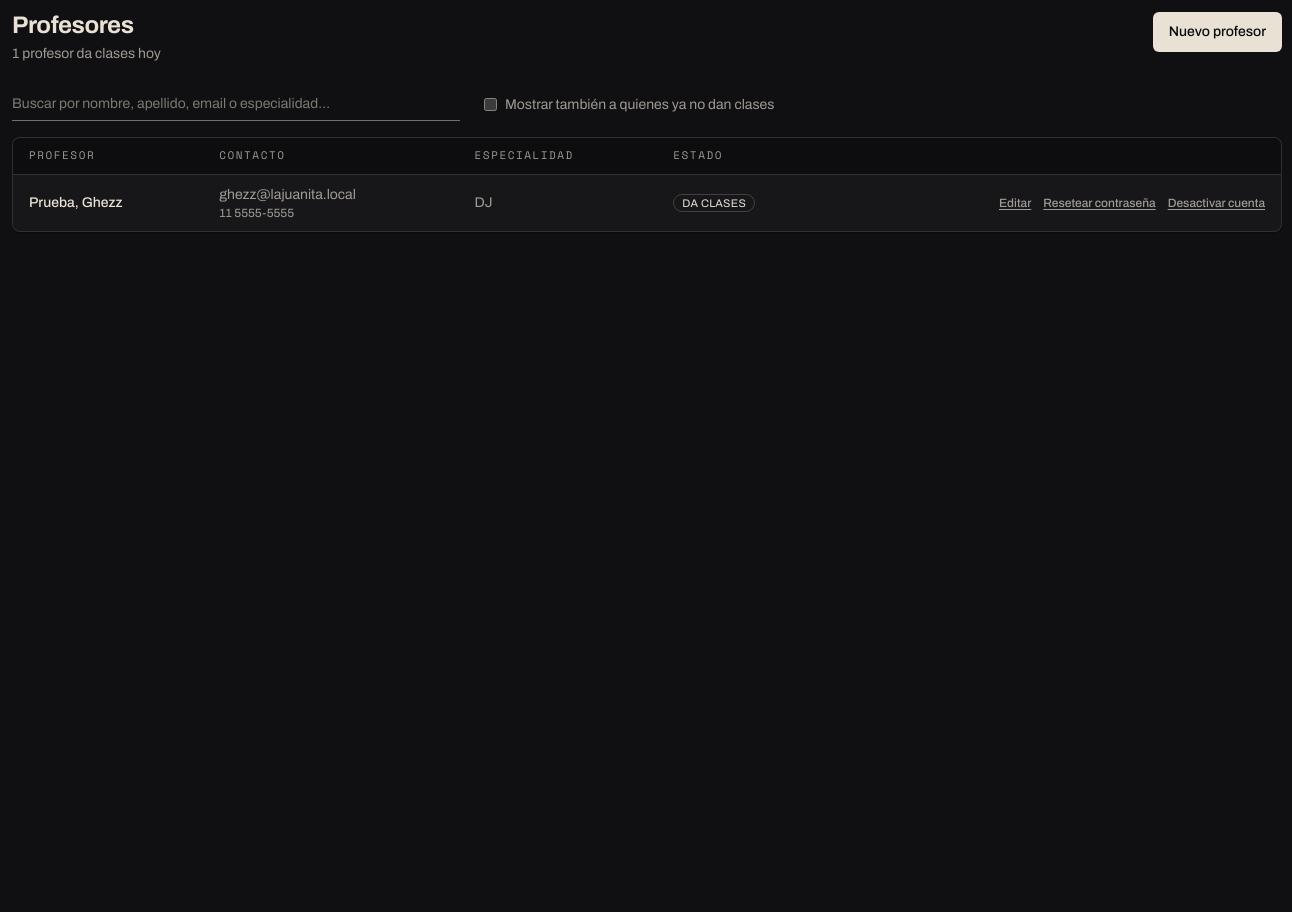
Test: el alta, con los dos caminos › con cuenta nueva manda usuarioNuevo y muestra la contraseña una vez
Check: the text "Prueba, Ghezz" is shown, box [29, 195, 123, 210]
Click the button "Nuevo profesor".
click(1217, 32)  # box [1153, 12, 1282, 52]
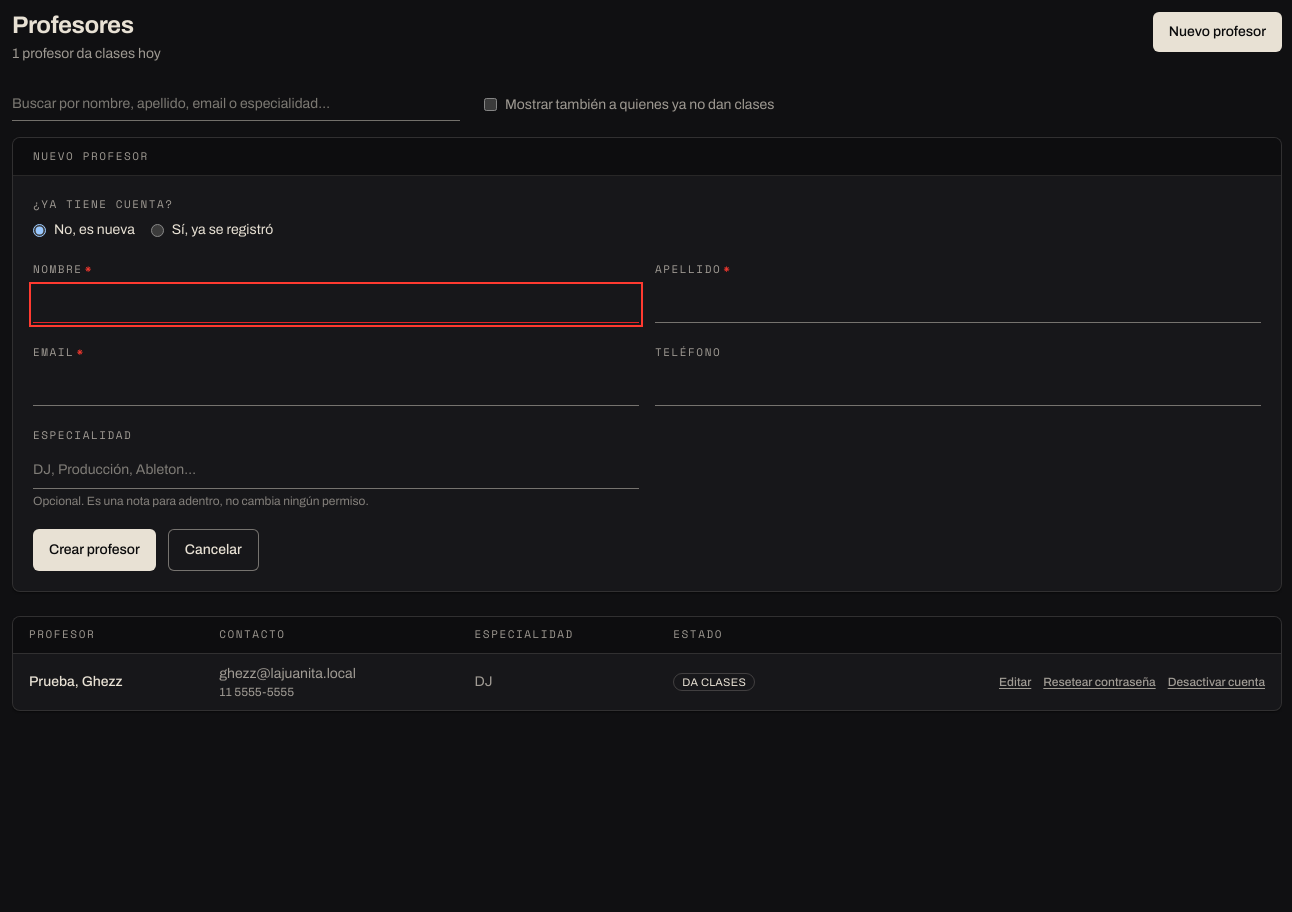
Type "Lucas" into the field labelled "Nombre*".
click(336, 305); type("Lucas")  # box [33, 286, 639, 323]
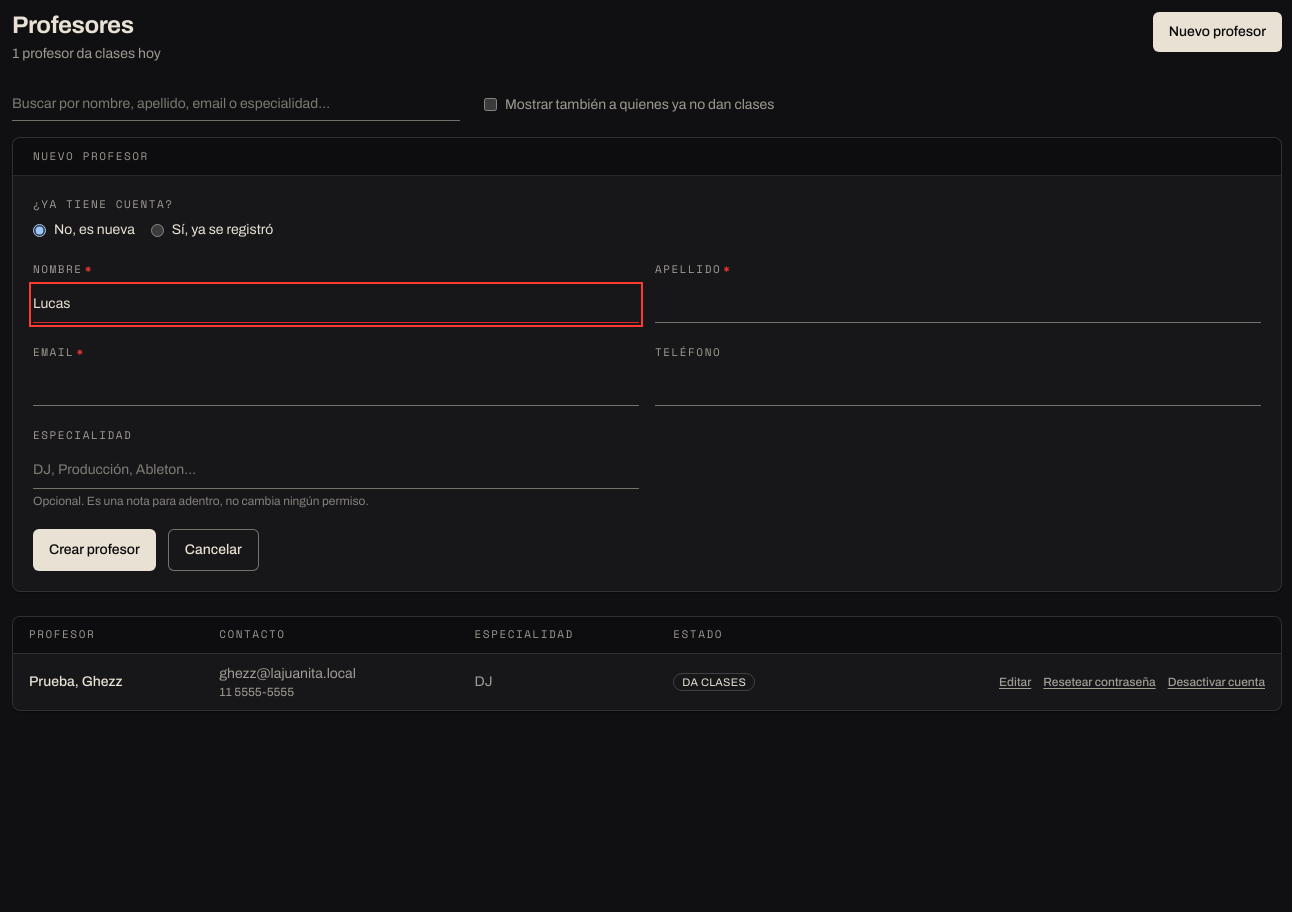
Type "Ferreyra" into the field labelled "Apellido*".
click(958, 305); type("Ferreyra")  # box [655, 286, 1261, 323]
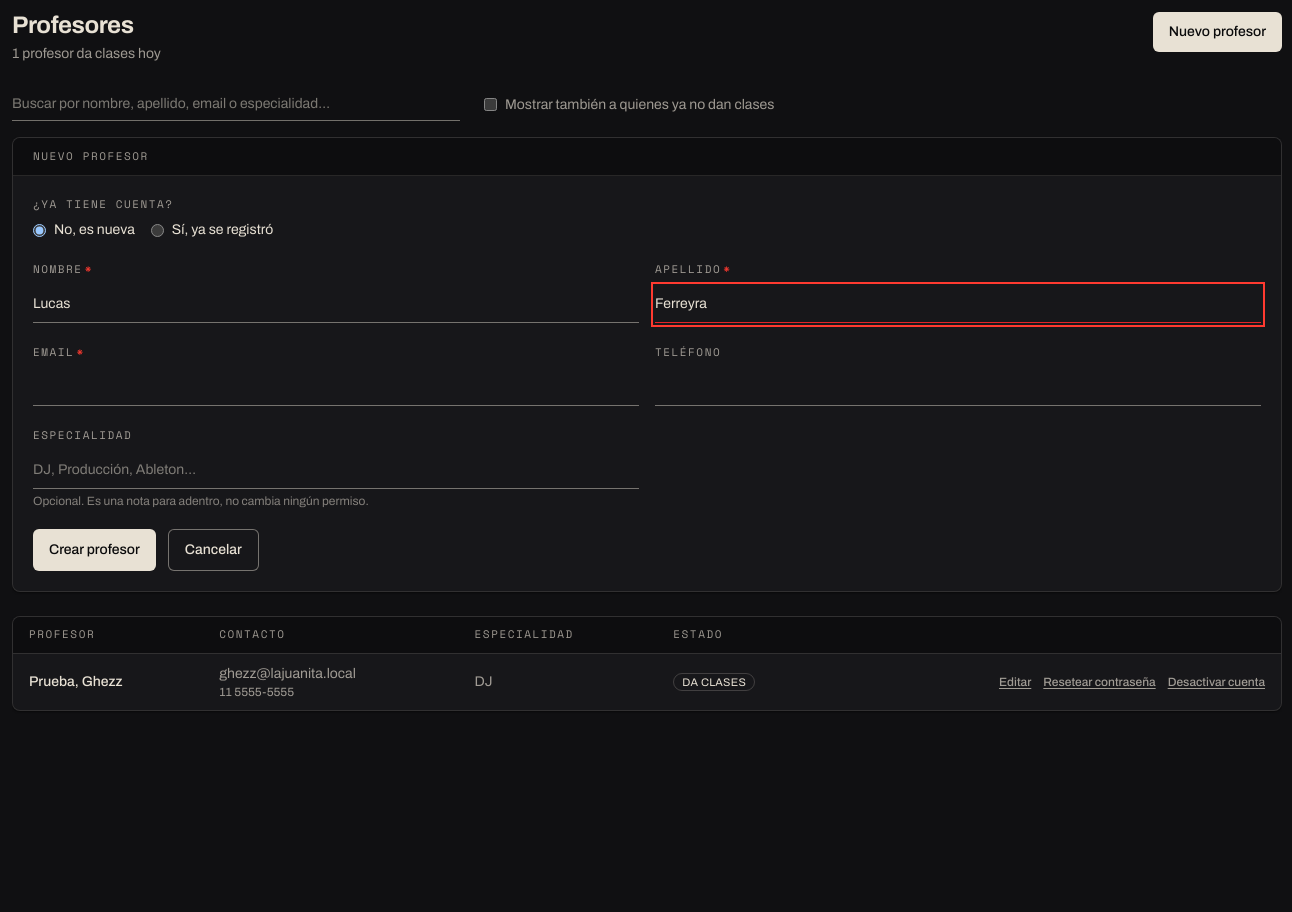
Type "lucas@ejemplo.com" into the field labelled "Email*".
click(336, 388); type("lucas@ejemplo.com")  # box [33, 369, 639, 406]
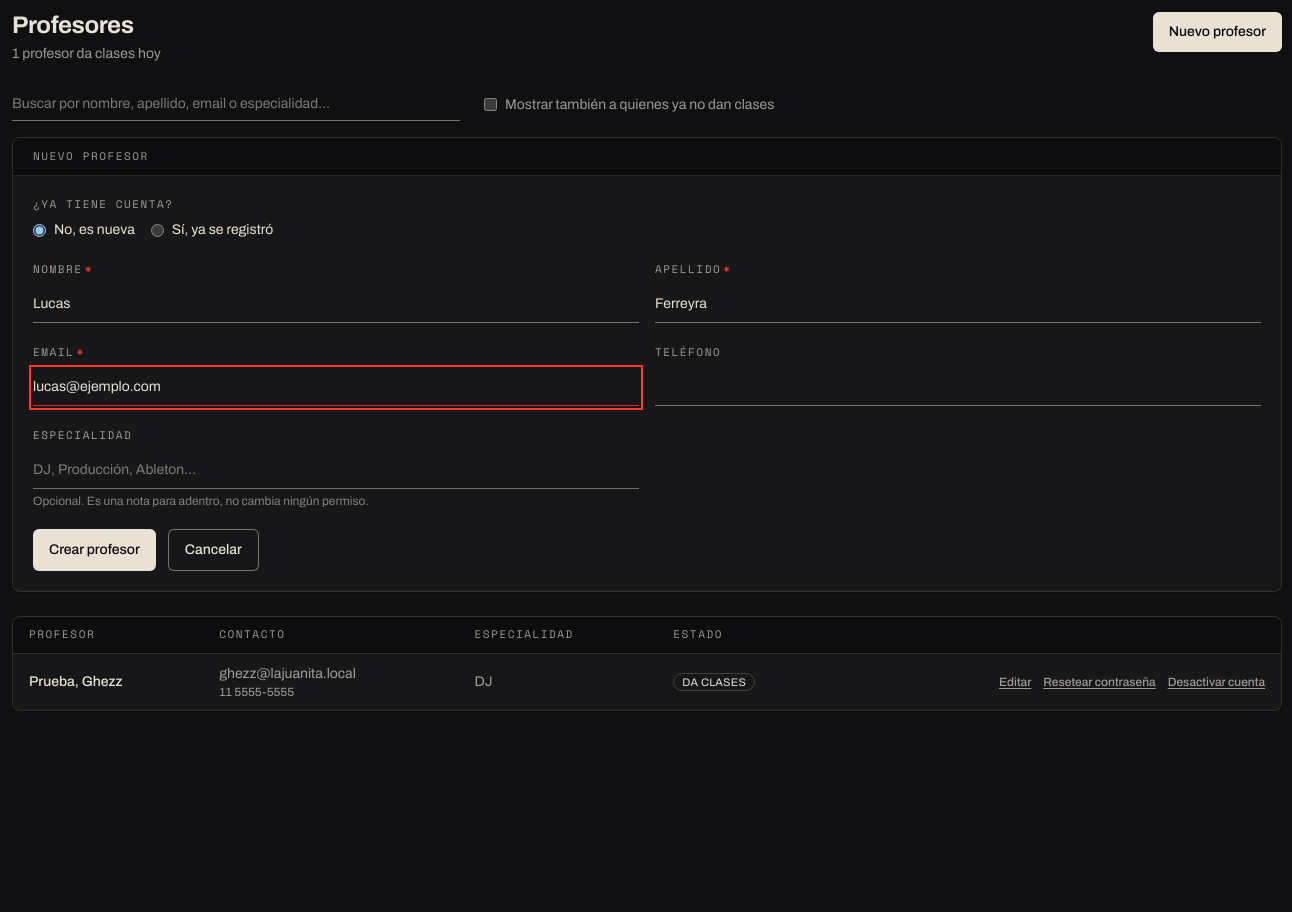
Type "Ableton" into the field labelled "Especialidad".
click(336, 471); type("Ableton")  # box [33, 452, 639, 489]
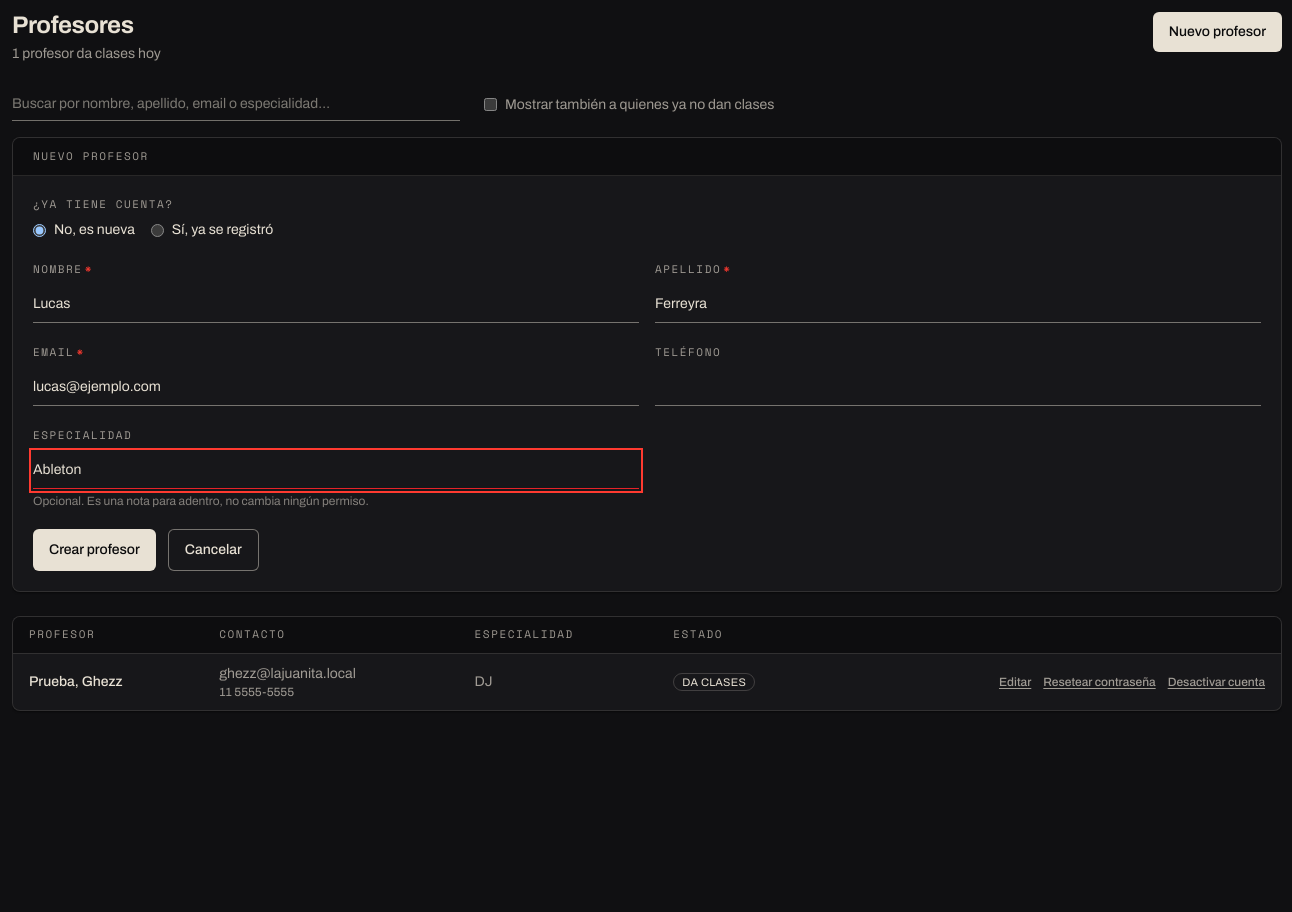
Click the button "Crear profesor".
click(94, 550)  # box [33, 529, 156, 571]
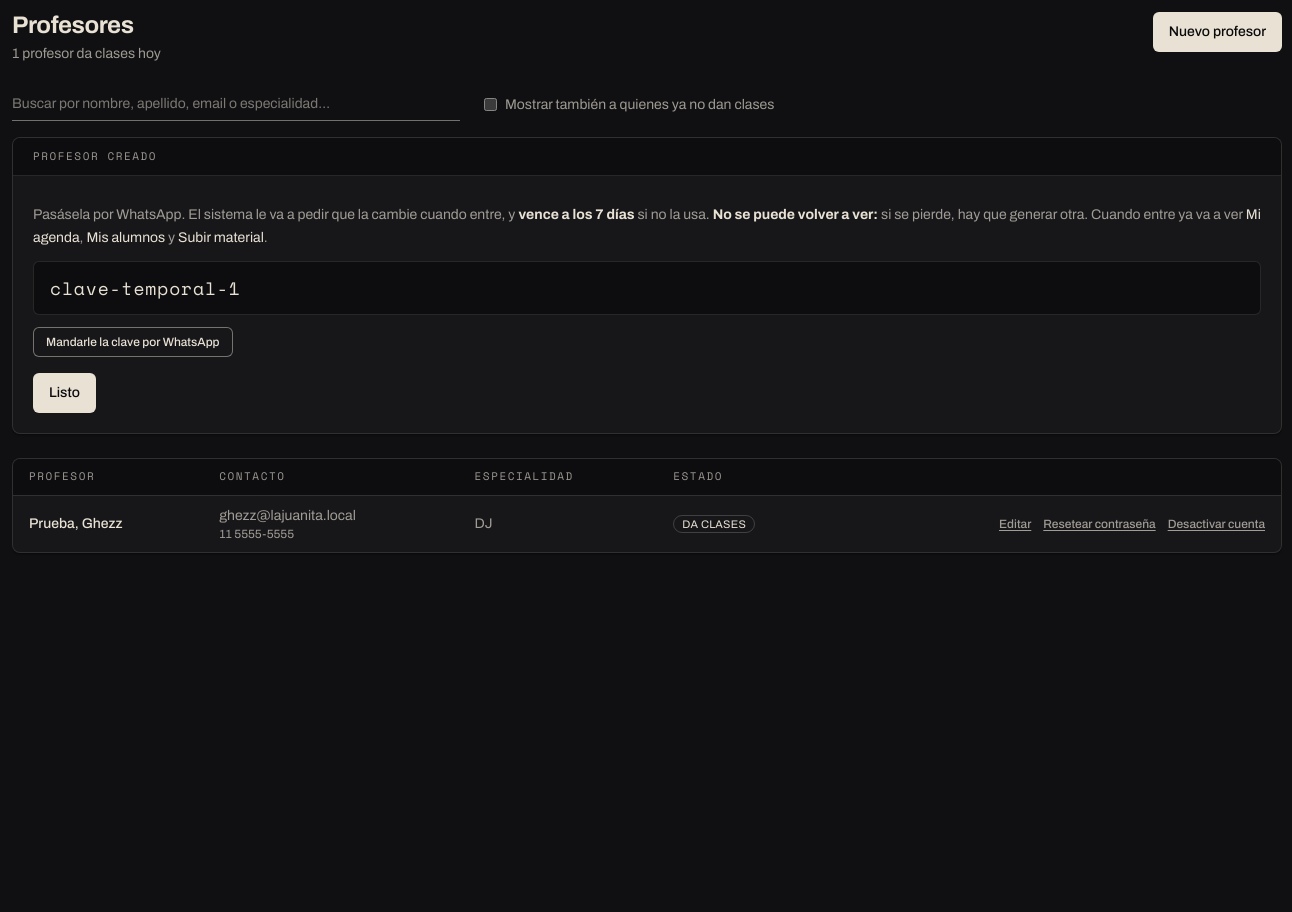
Check: the text "clave-temporal-1" is shown, box [33, 261, 1261, 315]
Check: the heading "Profesor creado" is shown, box [33, 148, 157, 165]
Check: the text "Mi agenda" is shown, box [33, 207, 1261, 245]
